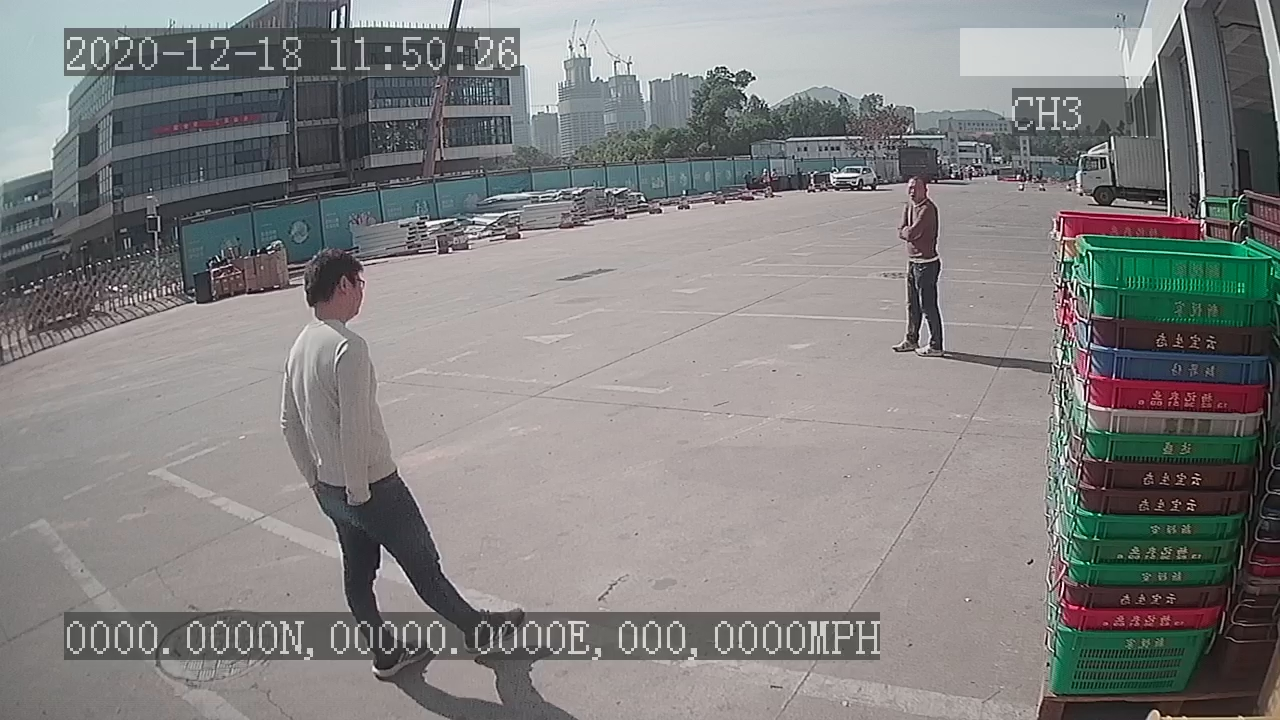person: (890, 176, 949, 361)
